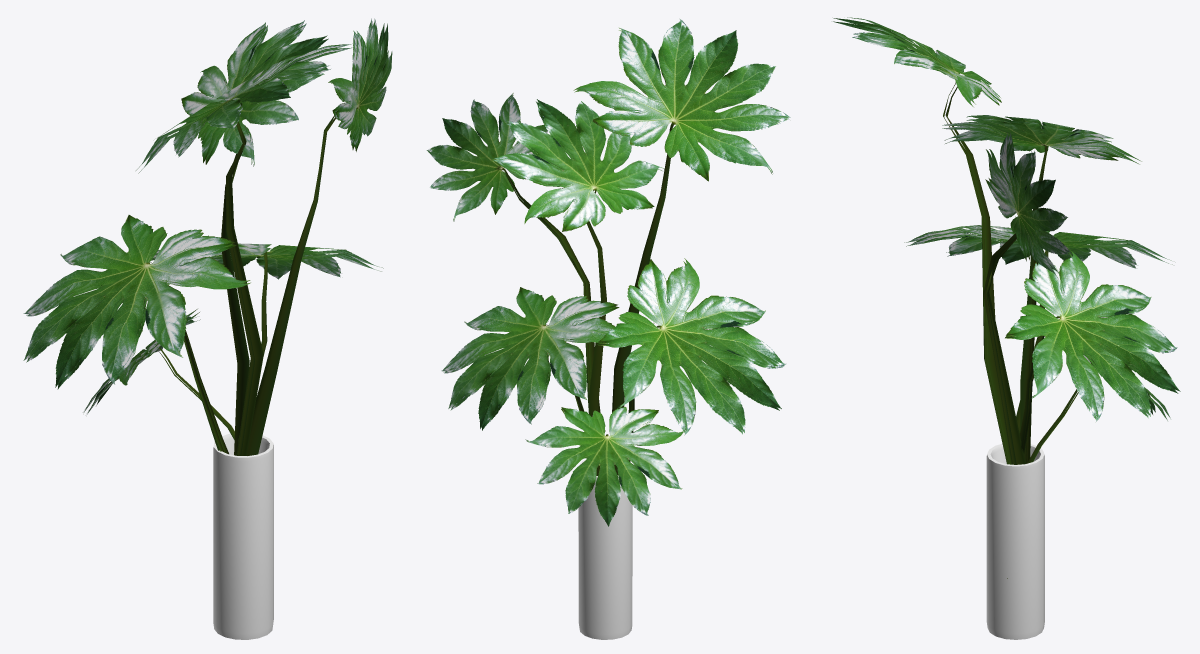
The model's file is fatsiya.fbx.
The picture shows the model from 3 angles, left to right: view 1: azimuth 30°, elevation 25°; view 2: azimuth 150°, elevation 25°; view 3: azimuth 270°, elevation 25°; orthographic projection. The views are drawn at different scales.
Visible parts, largest first — view 1: fatsiya, kust; view 2: fatsiya, kust; view 3: fatsiya, kust.
Boxes of the visible parts, x1,y1,x2,y2 form: fatsiya: (23,18,392,455); kust: (213,433,273,639); fatsiya: (426,19,790,526); kust: (578,459,632,639); fatsiya: (833,17,1180,578); kust: (986,443,1044,639).
Size of the model in its own units: 1.14 by 1.81 by 0.9899.
